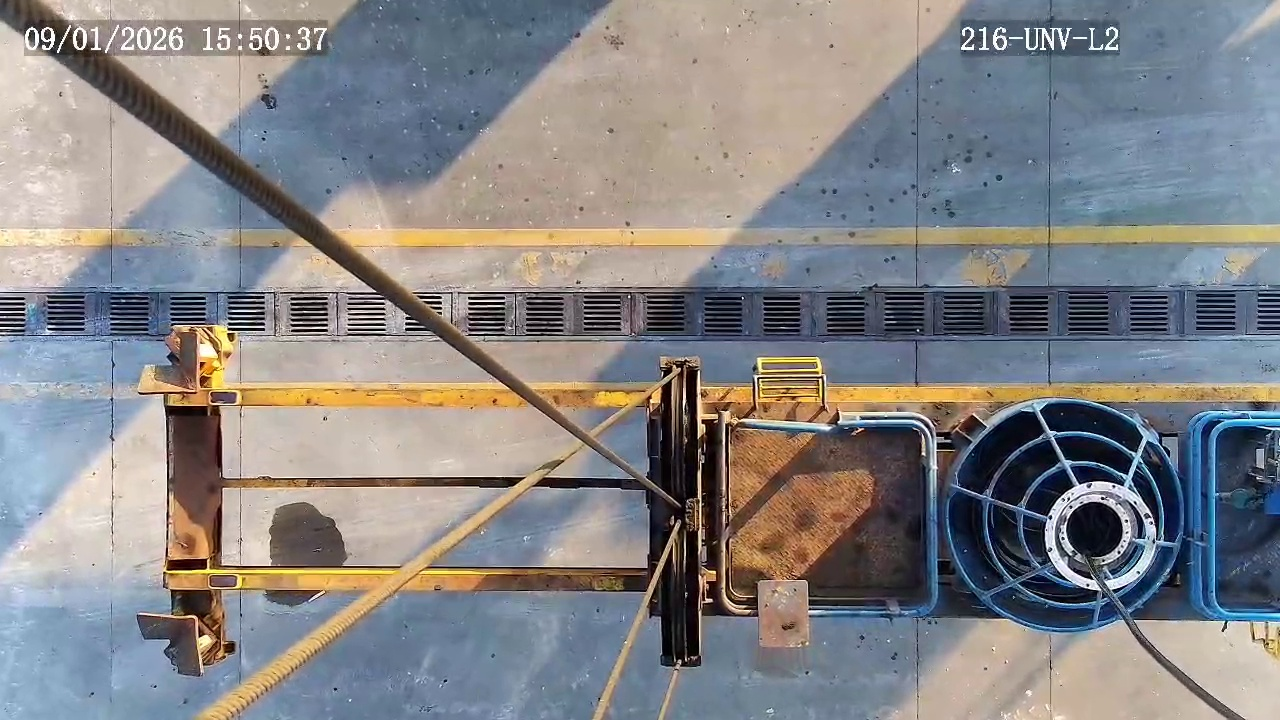left: (1044, 482, 1158, 589)
